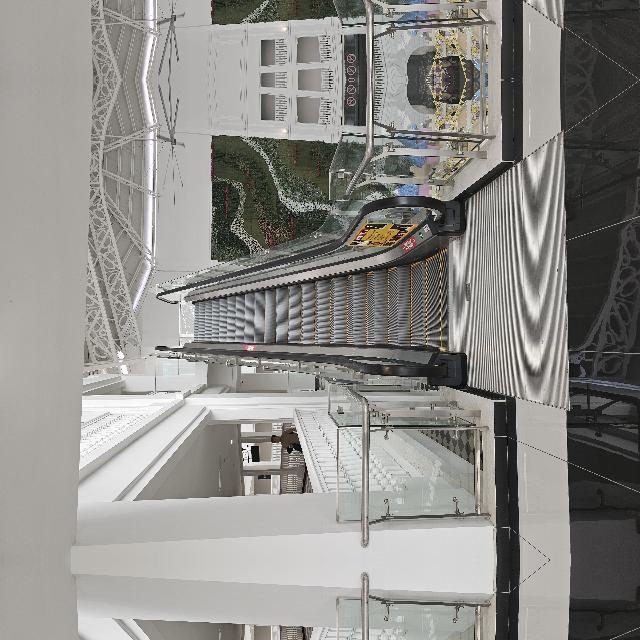person: (110, 351, 132, 382)
stair: (176, 224, 340, 552), (176, 568, 340, 640)
